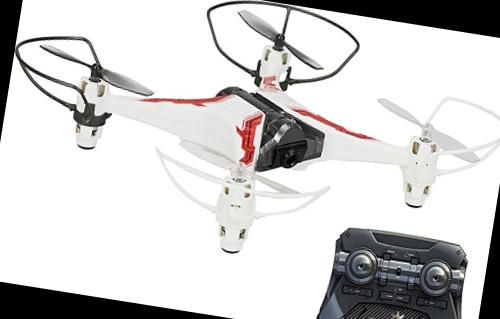drone: (0, 0, 500, 278)
